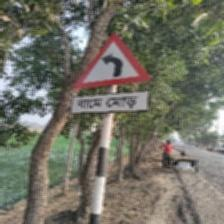Left-Turn: (70, 32, 153, 116)
